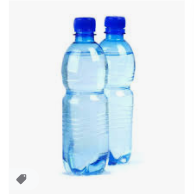Bottle: (63, 18, 107, 173), (97, 17, 131, 164)
